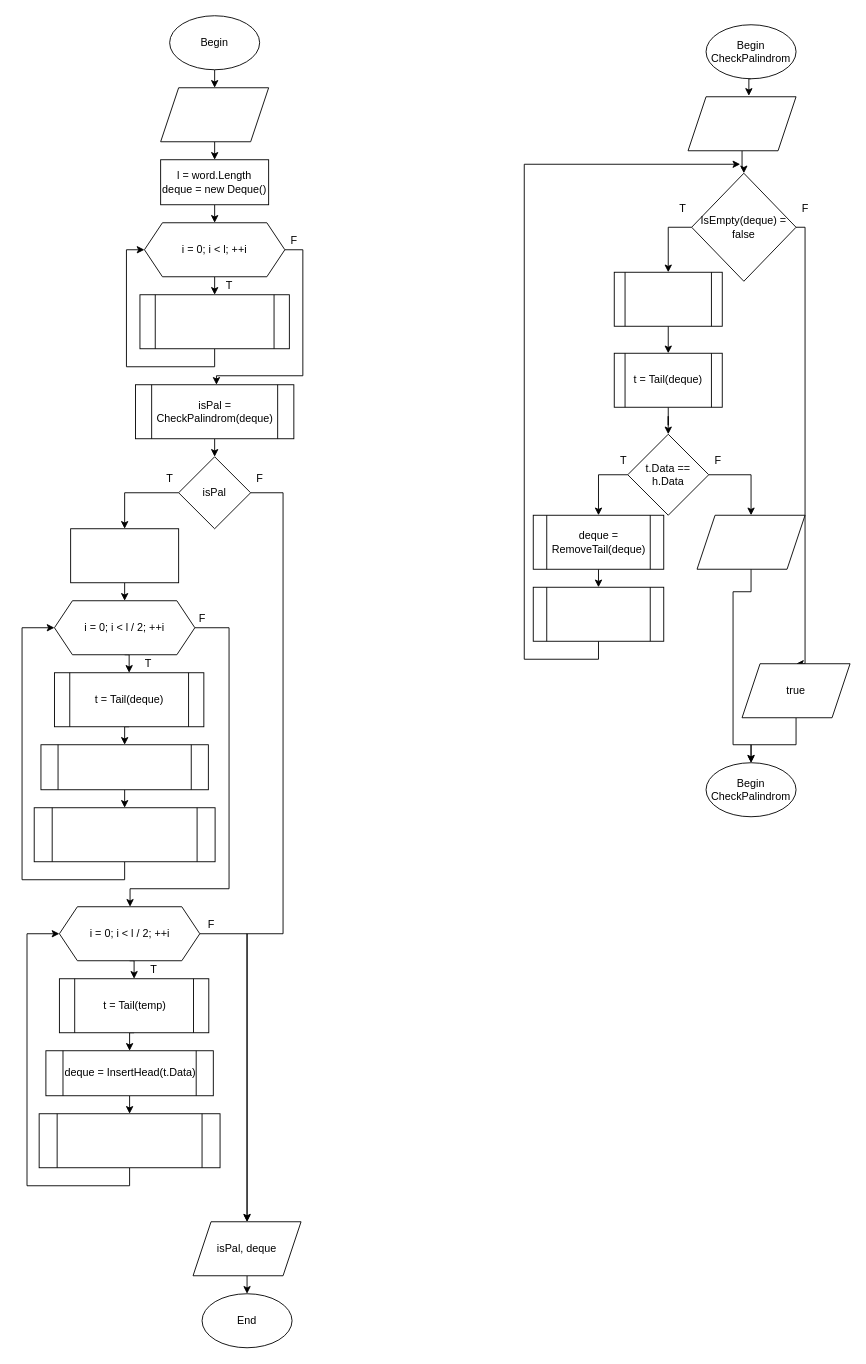
This 866x1364 diagram has some shape labels left out. The box of each missing label's shape, as (x1, y1, x2, y2) in pixels:
deque: (687, 96, 796, 151)
deque = InsertTail(word[i], deque): (139, 294, 289, 349)
deque = RemoveHead(deque): (532, 586, 664, 641)
deque = TemoveTail(deque): (33, 807, 215, 862)
false: (696, 514, 805, 569)
h = Head(deque): (613, 271, 722, 326)
temp = InsertTail(t.Data): (40, 744, 208, 790)
temp = new Deque(): (70, 528, 179, 583)
temp = TemoveTail(deque): (38, 1113, 220, 1168)
word: (160, 87, 269, 142)
